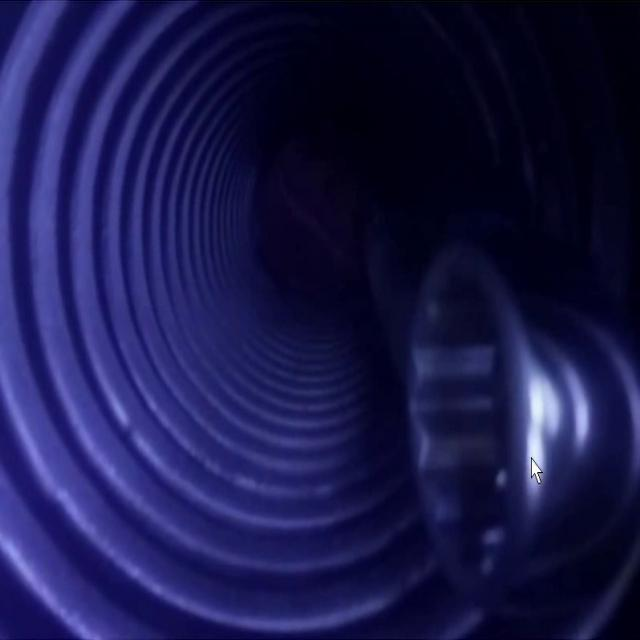metal piece: (412, 245, 640, 607)
